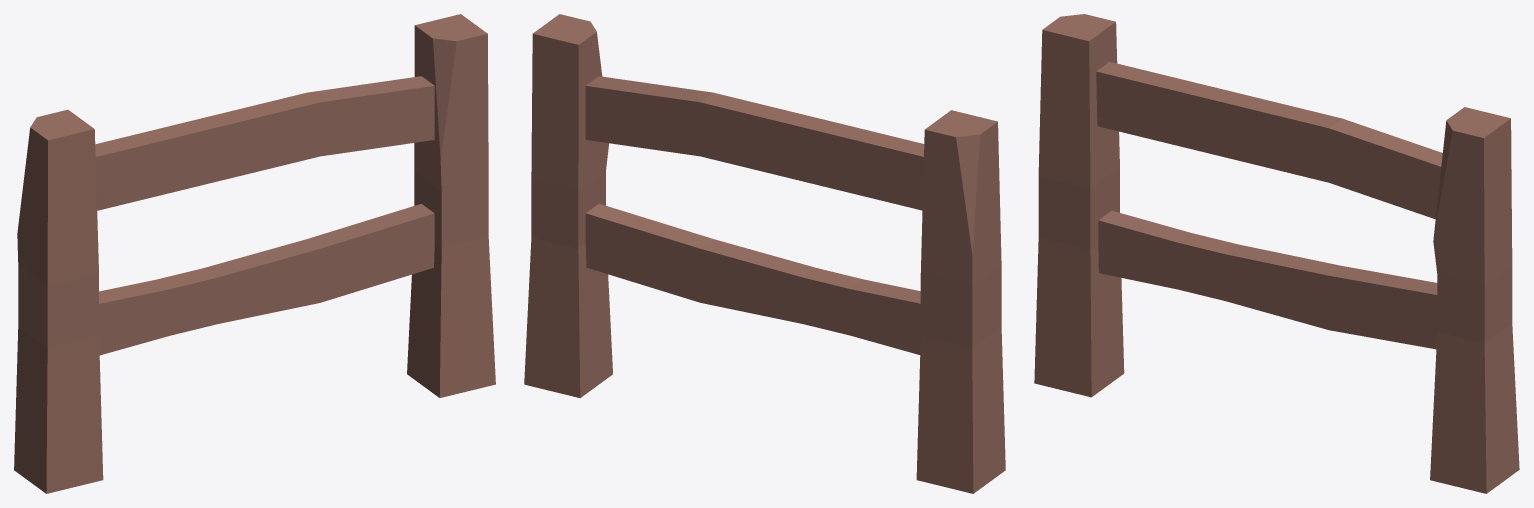
The model's file is PFE-Props-Barière-simple.fbx.
3 views of the same model, side by side, from view 1: azimuth 30°, elevation 25°; view 2: azimuth 150°, elevation 25°; view 3: azimuth 330°, elevation 25° (orthographic).
Parts seen in each view (by area): view 1: Cube.001; view 2: Cube.001; view 3: Cube.001.
Boxes of the visible parts, x1,y1,x2,y2 form: Cube.001: (14,14,495,493); Cube.001: (524,14,1005,493); Cube.001: (1034,14,1519,493).
Size of the model in its own units: 505 by 376 by 63.82.
